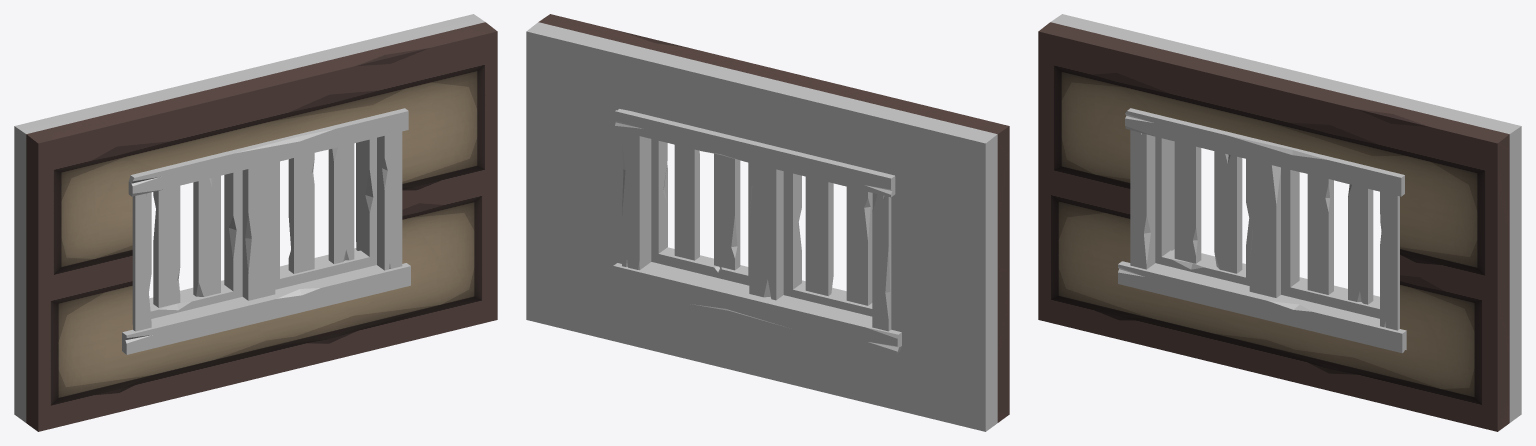
The model's file is SM_Bld_Wall_Block_Window_01.fbx.
The picture shows the model from 3 angles, left to right: view 1: azimuth 30°, elevation 25°; view 2: azimuth 150°, elevation 25°; view 3: azimuth 330°, elevation 25°; orthographic projection.
Parts seen in each view (by area): view 1: SM_Bld_Wall_Block_Window_01; view 2: SM_Bld_Wall_Block_Window_01; view 3: SM_Bld_Wall_Block_Window_01.
Boxes of the visible parts, left/top/right/bottom form: SM_Bld_Wall_Block_Window_01: left=14, top=14, right=497, bottom=431; SM_Bld_Wall_Block_Window_01: left=526, top=14, right=1009, bottom=431; SM_Bld_Wall_Block_Window_01: left=1038, top=14, right=1521, bottom=431.
Bounding box in the file's own units: 250 × 150 × 30.5.
